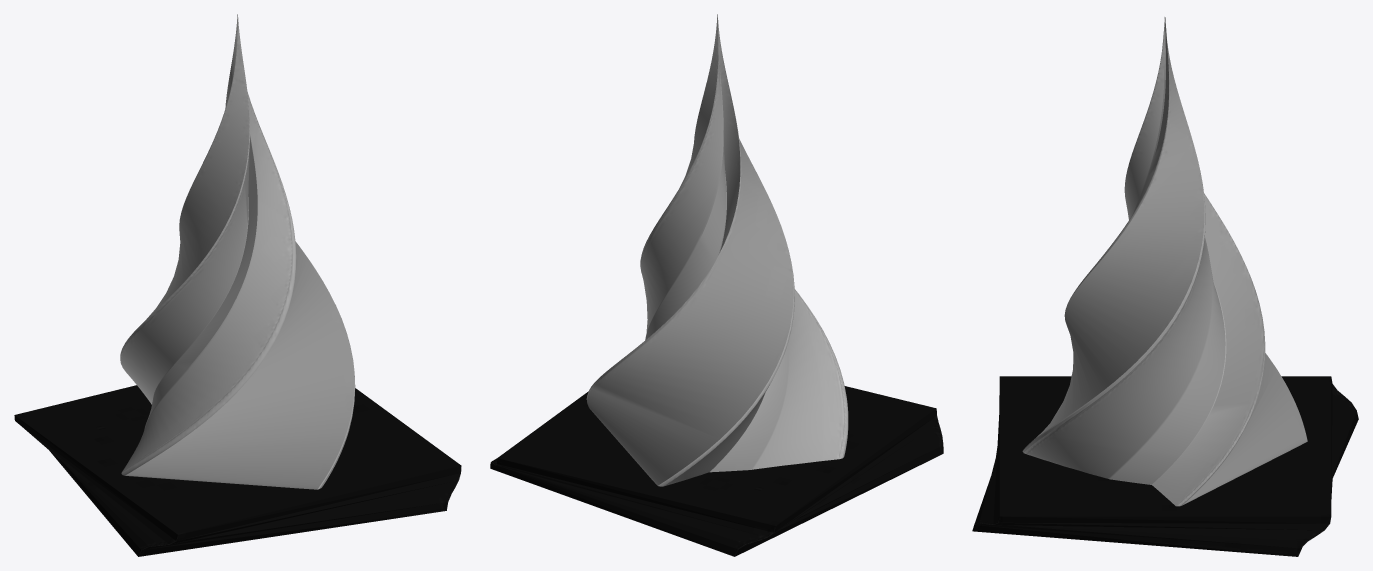
Rendered from spire.glb.
3 views of the same model, side by side, from view 1: azimuth 30°, elevation 25°; view 2: azimuth 150°, elevation 25°; view 3: azimuth 270°, elevation 25° (orthographic). The views are drawn at different scales.
Visible parts, largest first — view 1: Lumomd Tip.001, Circle.003; view 2: Lumomd Tip.001, Circle.003; view 3: Lumomd Tip.001, Circle.003.
Boxes of the visible parts, <box> form: Lumomd Tip.001: <box>120,14,355,489</box>; Circle.003: <box>14,385,461,556</box>; Lumomd Tip.001: <box>586,14,848,486</box>; Circle.003: <box>490,386,943,556</box>; Lumomd Tip.001: <box>1022,17,1307,506</box>; Circle.003: <box>972,376,1358,556</box>.
Size of the model in its own units: 0.501 by 0.6611 by 0.501.
1 material, 1 textured.
